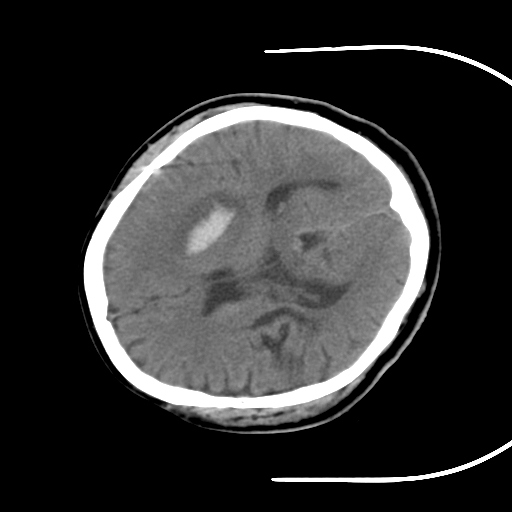a: (158, 183, 255, 273)
